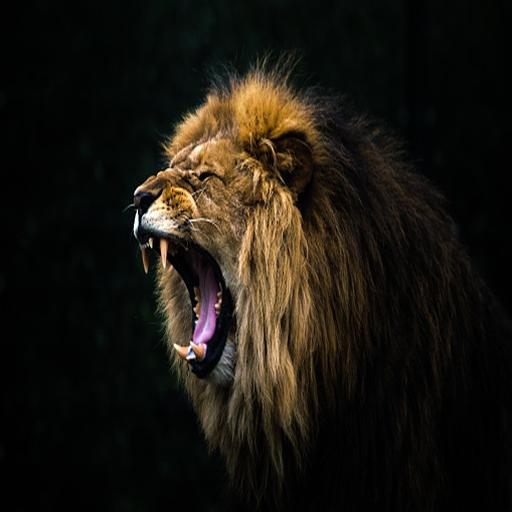Lion: (120, 40, 512, 512)
